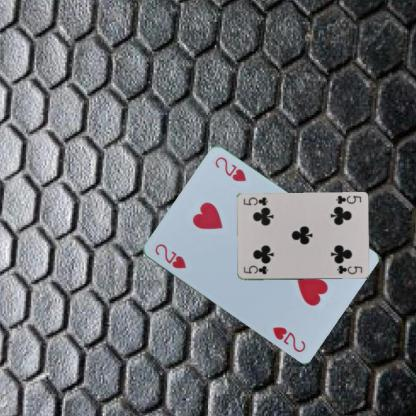2h: (152, 241, 188, 270)
5c: (334, 193, 362, 206), (241, 264, 269, 275)
